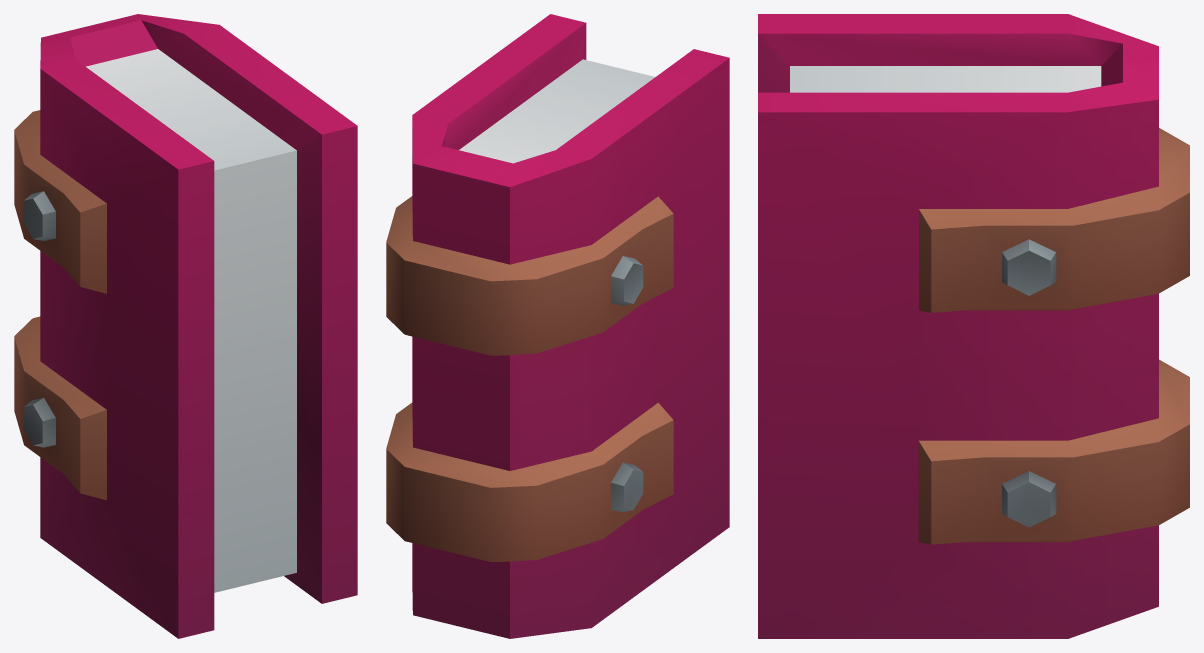
The model's file is spellbook_closed.glb.
3 views of the same model, side by side, from view 1: azimuth 30°, elevation 25°; view 2: azimuth 150°, elevation 25°; view 3: azimuth 270°, elevation 25° (orthographic). The views are drawn at different scales.
Visible parts, largest first — view 1: spellbook_closed; view 2: spellbook_closed; view 3: spellbook_closed.
Boxes of the visible parts, x1,y1,x2,y2 form: spellbook_closed: (14, 14, 357, 638); spellbook_closed: (386, 14, 729, 638); spellbook_closed: (758, 14, 1189, 638).
Bounding box in the file's own units: 0.293 × 0.575 × 0.4271.
1 material, 1 textured.
